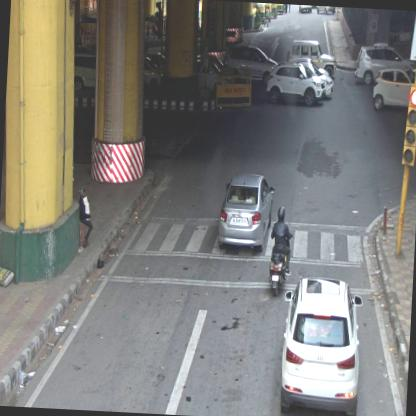car: (278, 276, 366, 415), (217, 170, 273, 254), (266, 61, 328, 107), (352, 42, 412, 88), (223, 44, 278, 82), (286, 38, 338, 78), (371, 66, 415, 112), (316, 6, 336, 16), (298, 4, 312, 14)
motorcycle: (268, 205, 294, 296)
